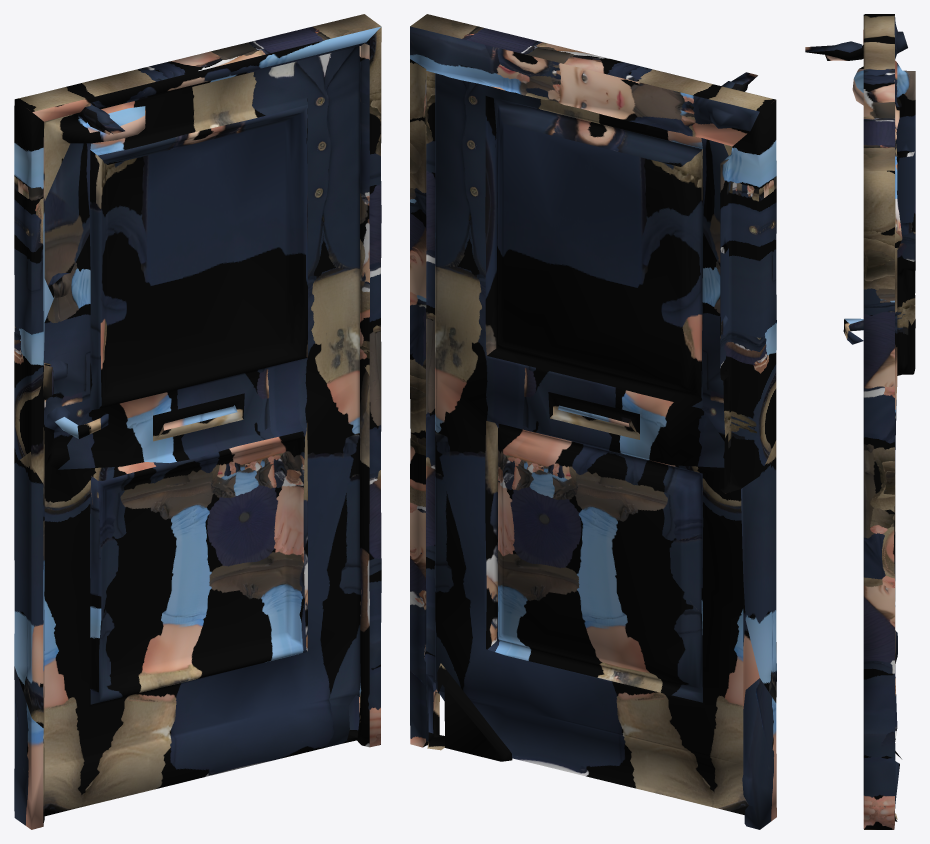
Rendered from door_low_unwrapped.obj.
3 renders of one model, left to right at view 1: azimuth 30°, elevation 25°; view 2: azimuth 150°, elevation 25°; view 3: azimuth 270°, elevation 25°, orthographic. The views are drawn at different scales.
Visible parts, largest first — view 1: Mesh1_0; view 2: Mesh1_0; view 3: Mesh1_0.
Boxes of the visible parts, bbox=[...] form: Mesh1_0: bbox=[14, 14, 381, 829]; Mesh1_0: bbox=[410, 14, 776, 829]; Mesh1_0: bbox=[805, 14, 915, 829].
Bounding box in the file's own units: 1.02 × 2.01 × 0.3045.
